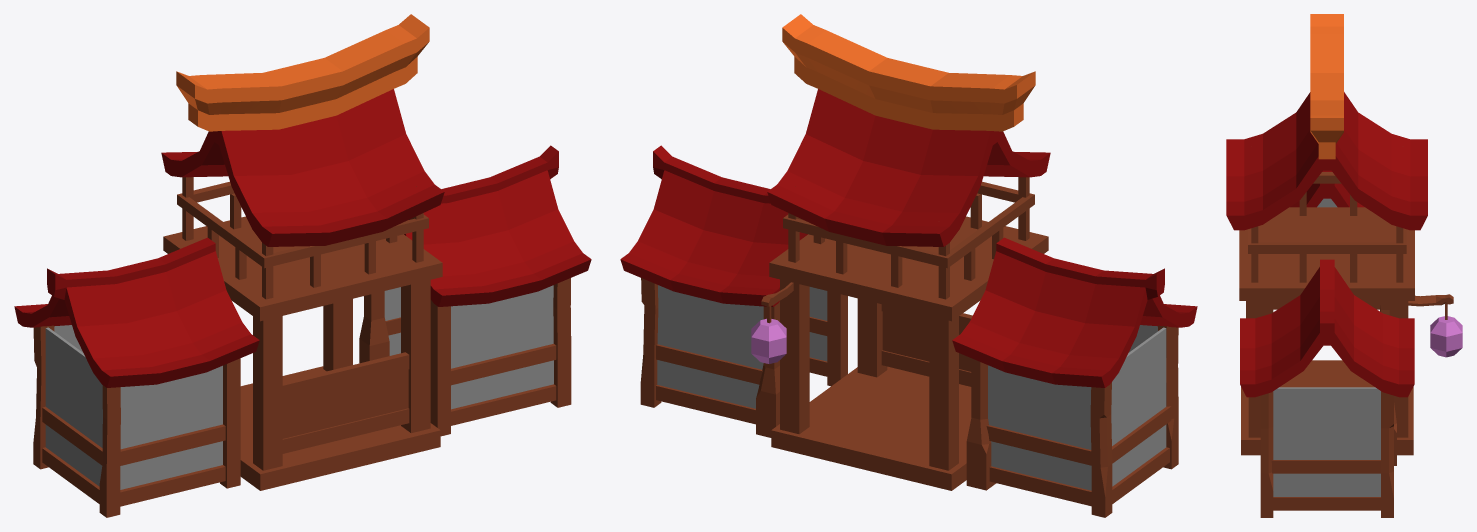
Rendered from Building_01.FBX.
3 renders of one model, left to right at view 1: azimuth 30°, elevation 25°; view 2: azimuth 150°, elevation 25°; view 3: azimuth 270°, elevation 25°, orthographic. The views are drawn at different scales.
Visible parts, largest first — view 1: Building_01; view 2: Building_01; view 3: Building_01.
Part boxes in pixels (x1=…): Building_01: x1=14, y1=14, x2=591, y2=517; Building_01: x1=620, y1=14, x2=1197, y2=517; Building_01: x1=1226, y1=14, x2=1462, y2=517.
Size of the model in its own units: 175 by 128 by 78.37.
